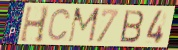4: (145, 9, 165, 45)
7: (97, 8, 121, 44)
B: (119, 9, 146, 44)
C: (46, 7, 72, 42)
H: (18, 4, 51, 44)
M: (67, 7, 102, 44)
